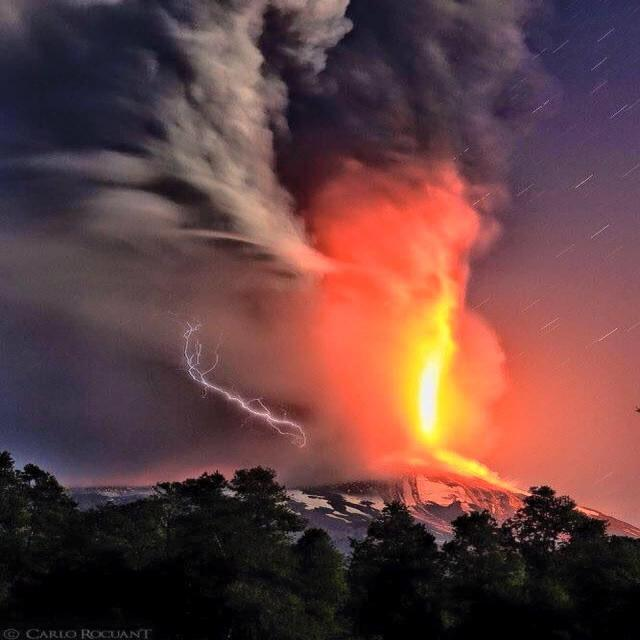Smoke: (0, 0, 366, 298), (1, 235, 350, 410), (362, 0, 560, 278)
